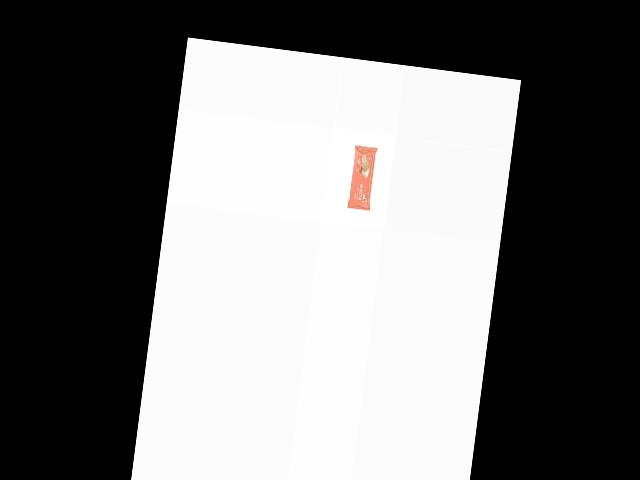chocolate: (346, 145, 377, 213)
